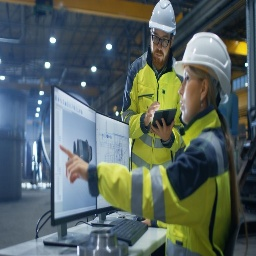helmet: (172, 31, 234, 102), (146, 2, 179, 36)
person: (174, 31, 238, 256), (124, 2, 182, 173)
vest: (178, 118, 233, 256), (130, 52, 182, 177)
